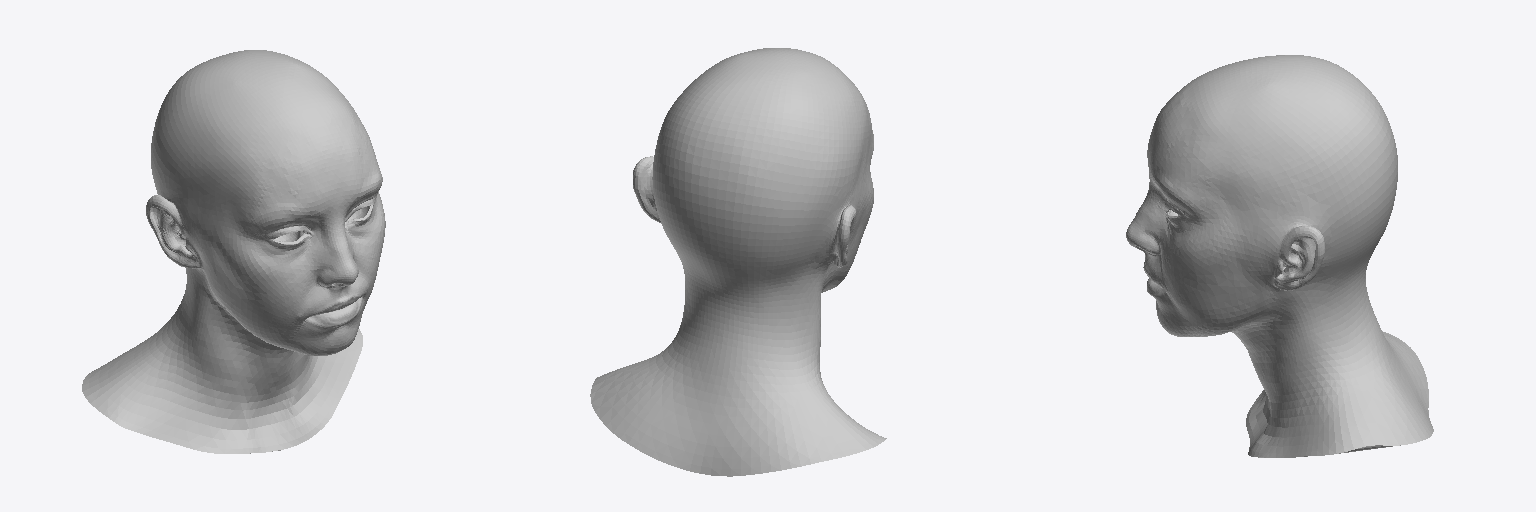
Rendered from laplacian_edition_closed.obj.
The picture shows the model from 3 angles: view 1: azimuth 30°, elevation 25°; view 2: azimuth 150°, elevation 25°; view 3: azimuth 270°, elevation 25°; orthographic projection.
Bounding box in the file's own units: 22.83 × 30.75 × 22.37.